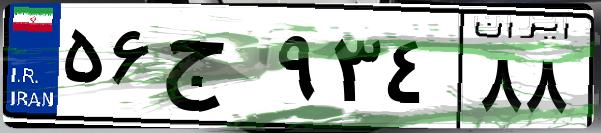3: (330, 28, 385, 110)
4: (385, 28, 445, 110)
5: (57, 26, 110, 100)
6: (110, 28, 158, 98)
8: (475, 38, 525, 113), (525, 38, 570, 115)
9: (270, 28, 330, 110)
ج: (158, 20, 270, 120)
